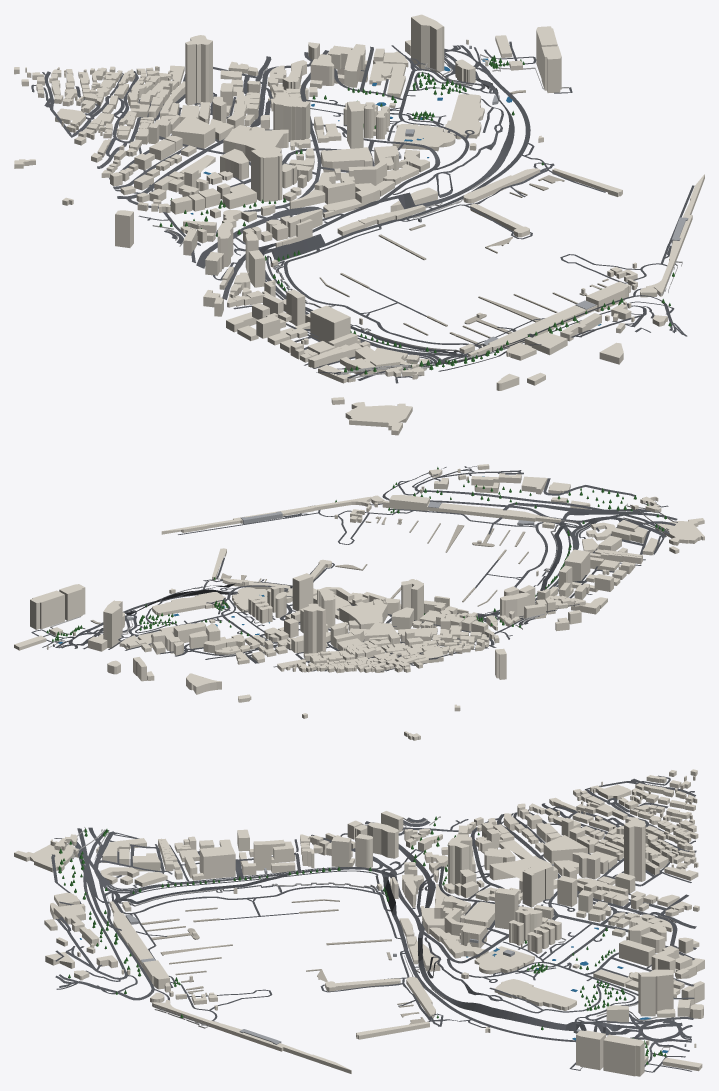
File: monaco_venue.glb
3 views of the same model, one above another, from view 1: azimuth 30°, elevation 25°; view 2: azimuth 150°, elevation 25°; view 3: azimuth 270°, elevation 25° (orthographic). The views are drawn at different scales.
Visible parts, largest first — view 1: Venue_Buildings, Venue_Roads, Venue_Trees, Venue_Piers, Venue_Walls; view 2: Venue_Buildings, Venue_Roads, Venue_Trees, Venue_Piers, Venue_Walls, Venue_Buildings_Industrial; view 3: Venue_Buildings, Venue_Roads, Venue_Trees, Venue_Piers, Venue_Walls, Venue_PitLane, Venue_Buildings_Industrial.
Part boxes in pixels (box(x1,y1,x2,y2)): Venue_Buildings: box(14, 14, 704, 435); Venue_Roads: box(31, 41, 694, 383); Venue_Trees: box(159, 55, 674, 374); Venue_Piers: box(319, 90, 608, 346); Venue_Walls: box(152, 54, 682, 379); Venue_Buildings: box(14, 464, 704, 740); Venue_Roads: box(31, 466, 677, 671); Venue_Trees: box(46, 467, 666, 641); Venue_Piers: box(90, 516, 528, 624); Venue_Walls: box(50, 502, 677, 656); Venue_Buildings_Industrial: box(53, 501, 558, 646); Venue_Buildings: box(14, 769, 704, 1076); Venue_Roads: box(51, 775, 696, 1072); Venue_Trees: box(58, 816, 666, 1064); Venue_Piers: box(141, 899, 425, 1024); Venue_Walls: box(65, 816, 676, 1069); Venue_PitLane: box(114, 868, 397, 903); Venue_Buildings_Industrial: box(125, 868, 686, 1046).
Size of the model in its own units: 1013 by 199 by 1278.
